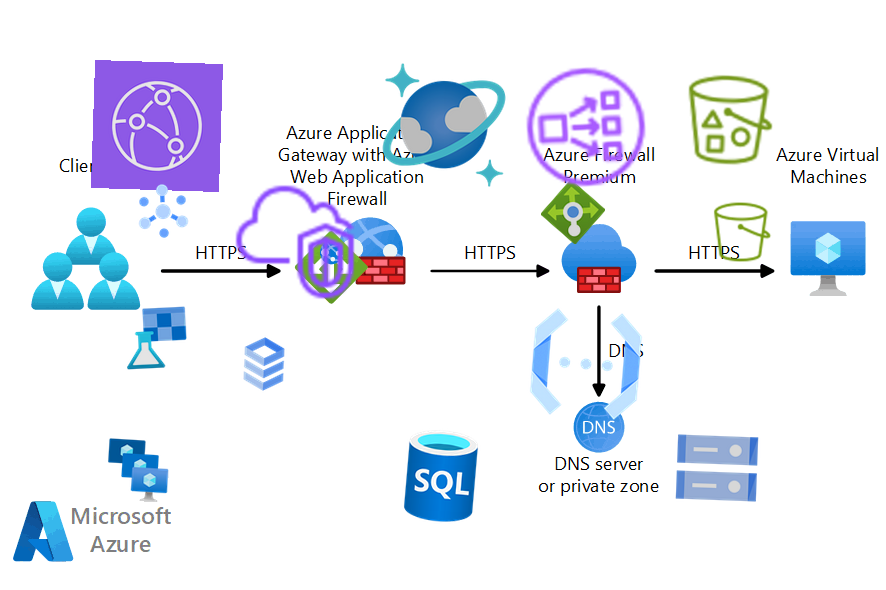aws_amazon_cloudfront: (90, 59, 224, 193)
aws_elastic_load_balancing_network_load_balancer: (518, 59, 654, 195)
aws_simple_storage_service_bucket: (709, 199, 775, 265)
aws_simple_storage_service_bucket_with_objects: (680, 70, 780, 170)
aws_vpc_virtual_private_cloud_vpc: (230, 177, 360, 307)
azure_cosmos_db: (378, 59, 510, 191)
azure_load_balancers: (538, 177, 608, 247)
azure_machine_learning_studio_workspaces: (122, 304, 190, 372)
azure_sql_database: (389, 424, 493, 528)
azure_vm_scale_sets: (103, 435, 171, 503)
gcp_cloud_functions: (517, 295, 655, 433)
gcp_cloud_sql: (230, 330, 298, 398)
gcp_cloud_storage: (667, 418, 767, 518)
gcp_pubsub: (129, 177, 197, 245)
